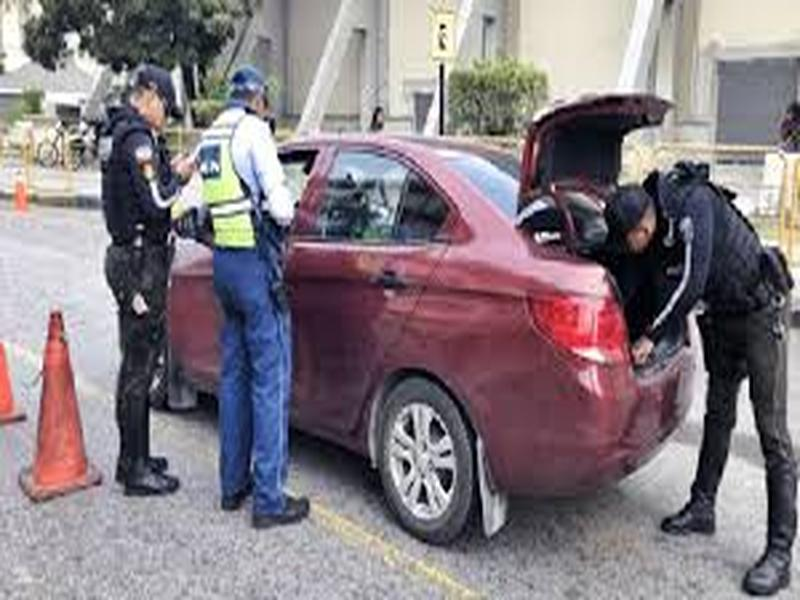Cone: (19, 310, 103, 505)
